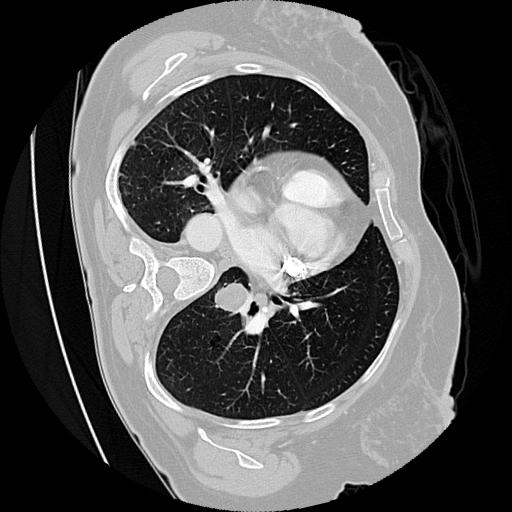nodule: (211, 277, 254, 320)
